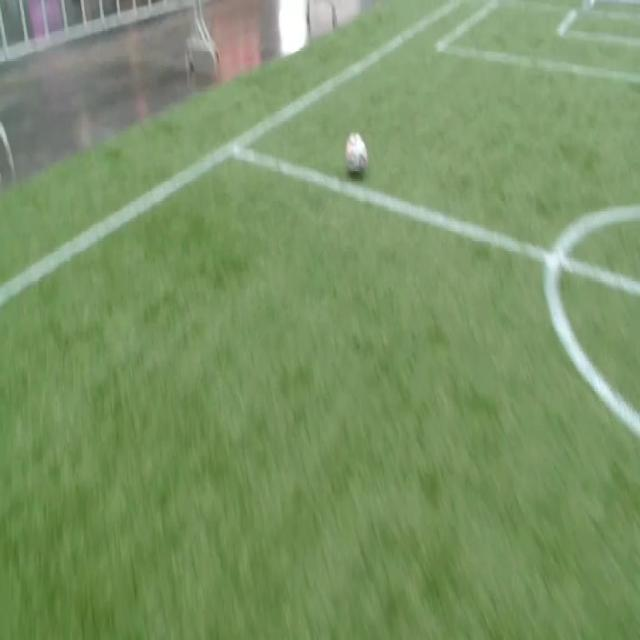ball: (346, 133, 368, 172)
